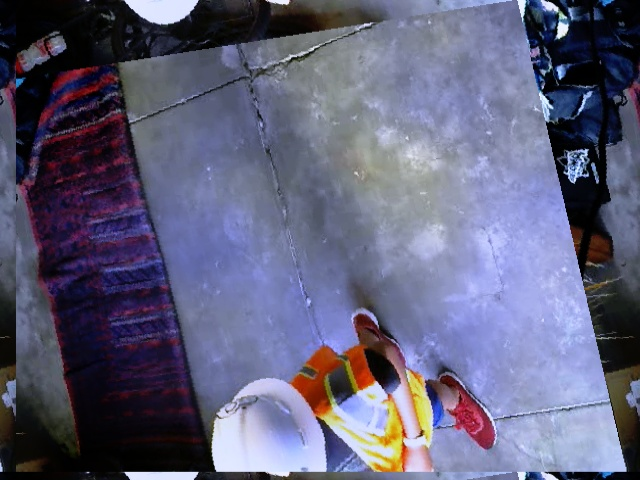eight: (211, 391, 262, 420)
